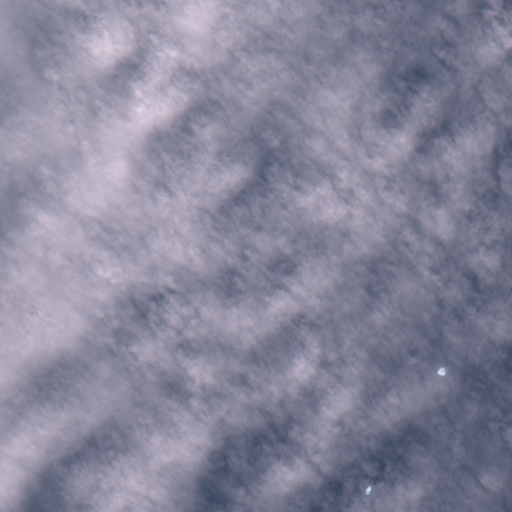Iceberg: (437, 368, 445, 375), (366, 487, 370, 494)
